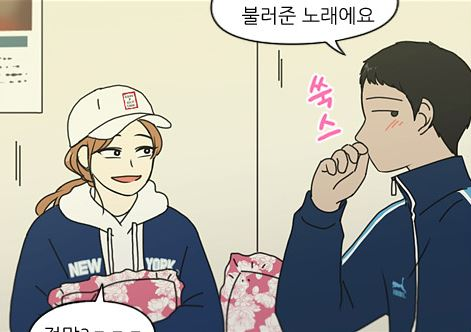hat: (64, 84, 174, 145)
